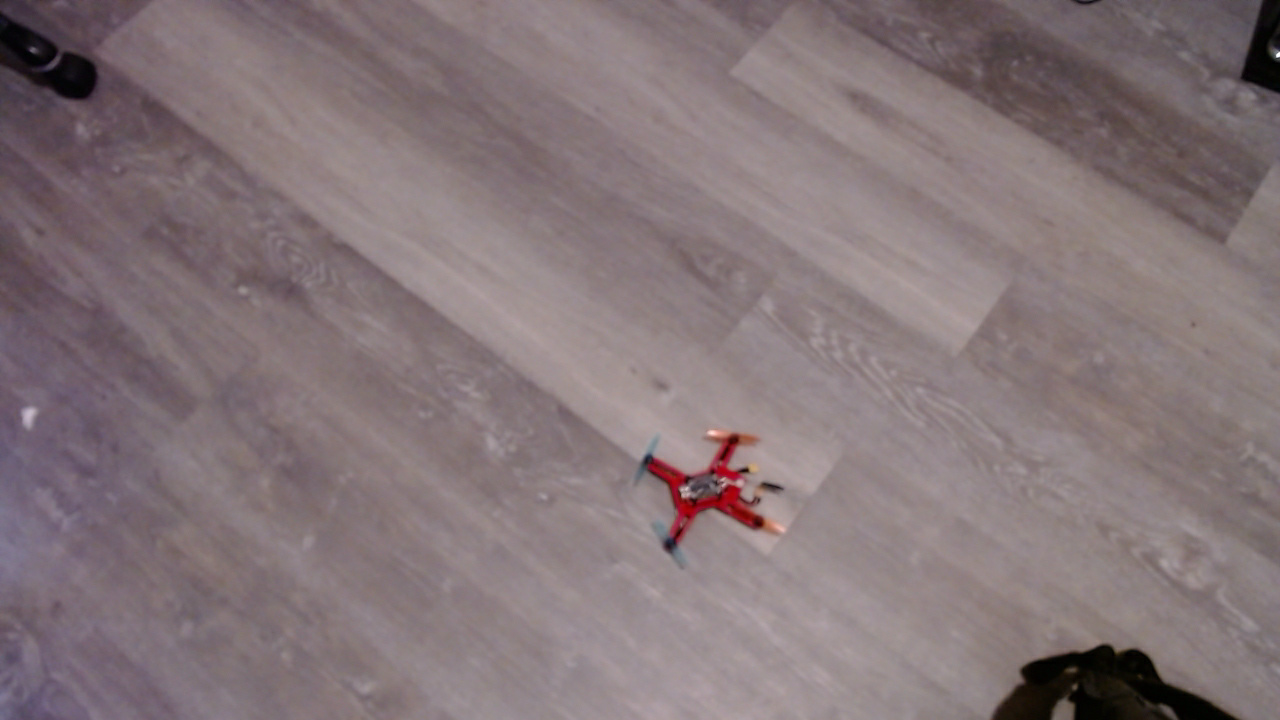crazyflie: (633, 434, 800, 579)
